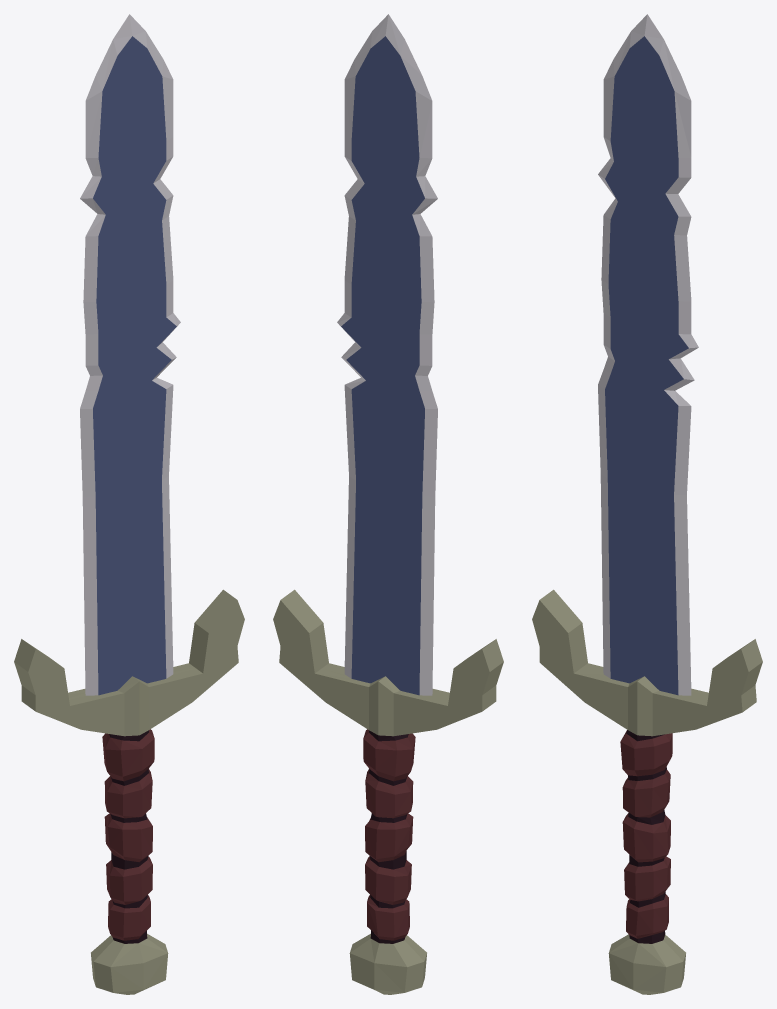
The model's file is sword_01.glb.
The picture shows the model from 3 angles, left to right: view 1: azimuth 30°, elevation 25°; view 2: azimuth 150°, elevation 25°; view 3: azimuth 330°, elevation 25°; orthographic projection.
Parts seen in each view (by area): view 1: Sword; view 2: Sword; view 3: Sword.
Part boxes in pixels (x1=…): Sword: x1=14, y1=14, x2=244, y2=994; Sword: x1=273, y1=14, x2=503, y2=994; Sword: x1=532, y1=14, x2=762, y2=994.
Size of the model in its own units: 53.44 by 230 by 12.22.
